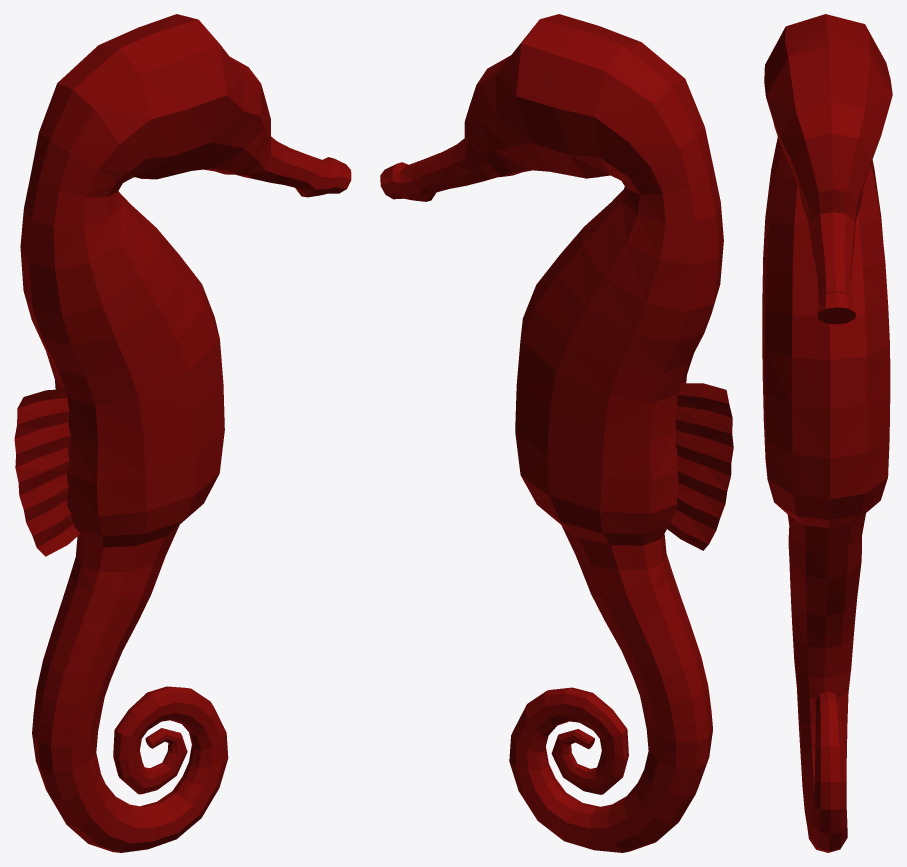
The model's file is seahorse.obj.
3 renders of one model, left to right at view 1: azimuth 30°, elevation 25°; view 2: azimuth 150°, elevation 25°; view 3: azimuth 270°, elevation 25°, orthographic.
Parts seen in each view (by area): view 1: Cube.002_Cube.000; view 2: Cube.002_Cube.000; view 3: Cube.002_Cube.000.
Part boxes in pixels (x1,y1,x2,y2): Cube.002_Cube.000: (14, 14, 351, 852); Cube.002_Cube.000: (380, 14, 733, 852); Cube.002_Cube.000: (762, 14, 892, 852).
Size of the model in its own units: 0.9576 by 2.2 by 0.3157.
